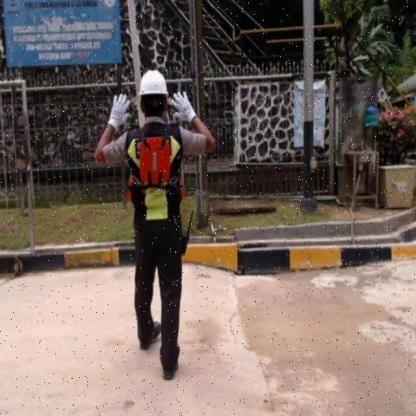boots: (137, 318, 162, 354), (160, 348, 180, 380)
gloves: (168, 88, 197, 124), (106, 90, 132, 129)
helmet: (137, 66, 170, 95)
vest: (138, 134, 172, 186)
